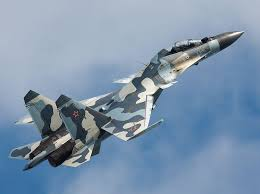maybay_muctieu: (11, 31, 253, 170)
